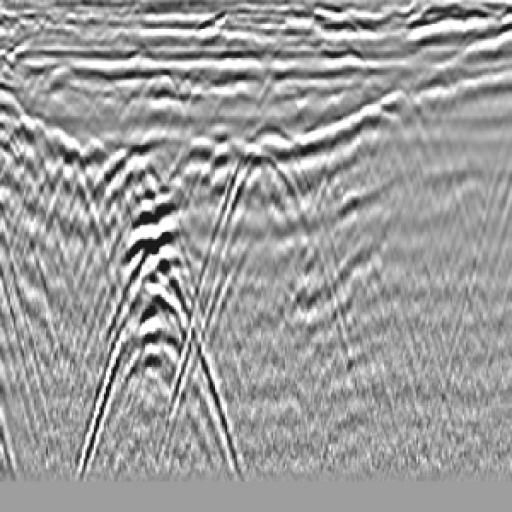metalic: (188, 144, 346, 339)
